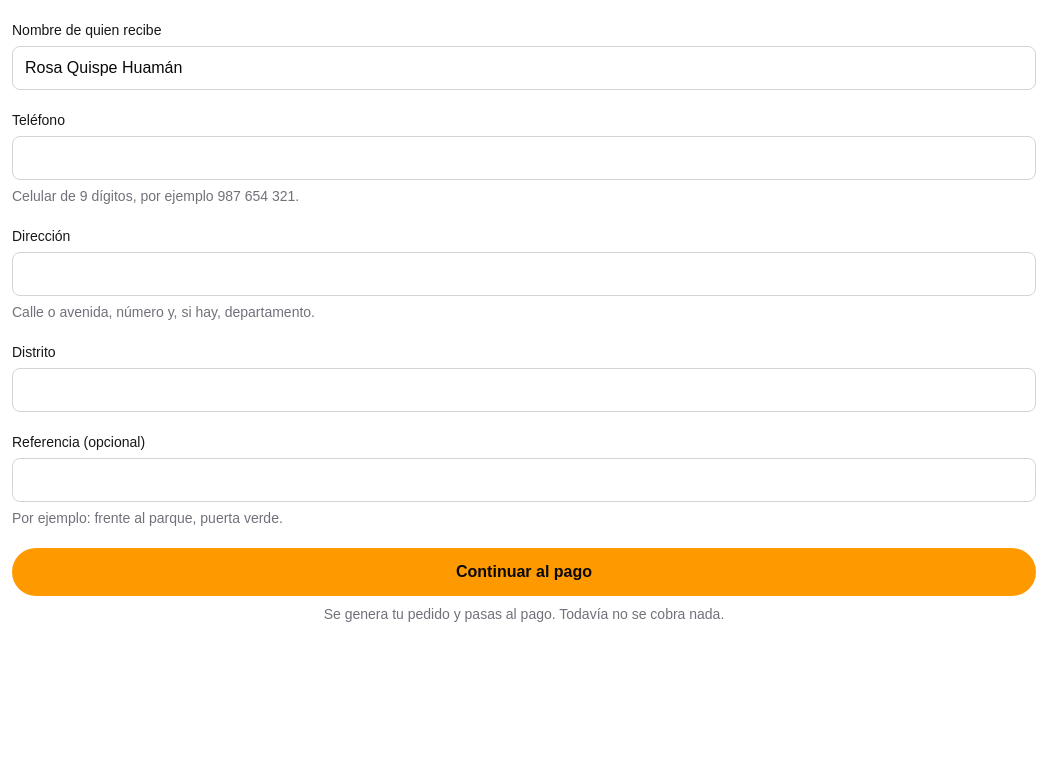
Scenario: FormularioEntrega (HU-08) › sin teléfono, dirección ni distrito muestra un mensaje en cada campo y no genera el pedido
What coordinates should you click on to do the following:
click the button "Continuar al pago"
I would click on:
 (524, 572)
Its box is [12, 548, 1036, 596].
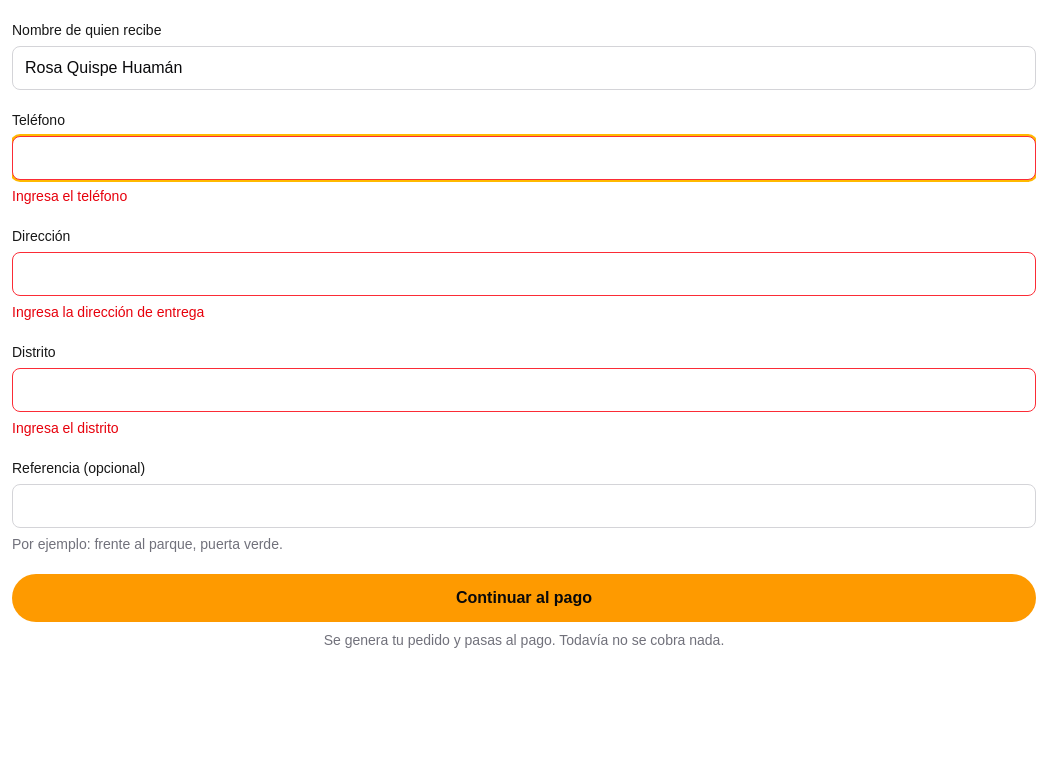
Now the text "Ingresa el teléfono" is shown, box [12, 188, 127, 204]
Now the text "Ingresa la dirección de entrega" is shown, box [12, 304, 204, 320]
Now the text "Ingresa el distrito" is shown, box [12, 420, 119, 436]
